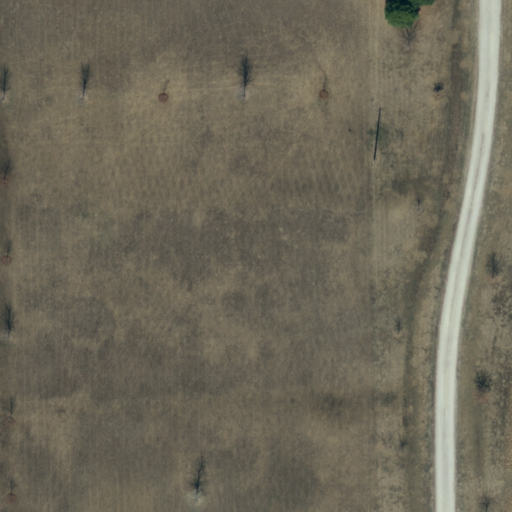DT: (365, 151, 383, 171)
